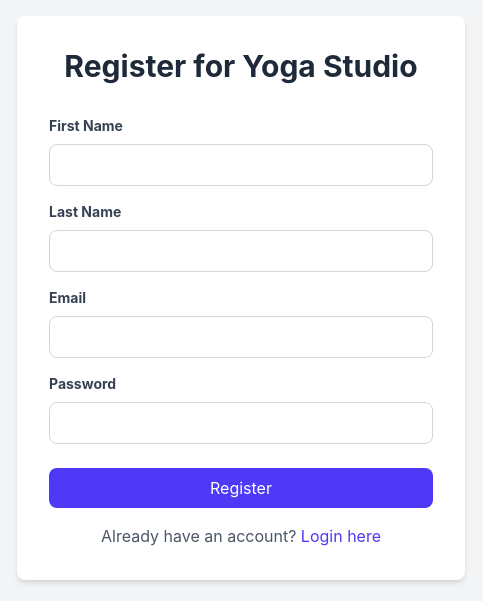
Test: Register › should disable button and show loading state on submit
Type "Benji" into the field labelled "First Name" at (241, 165), box 49,144 -> 433,186
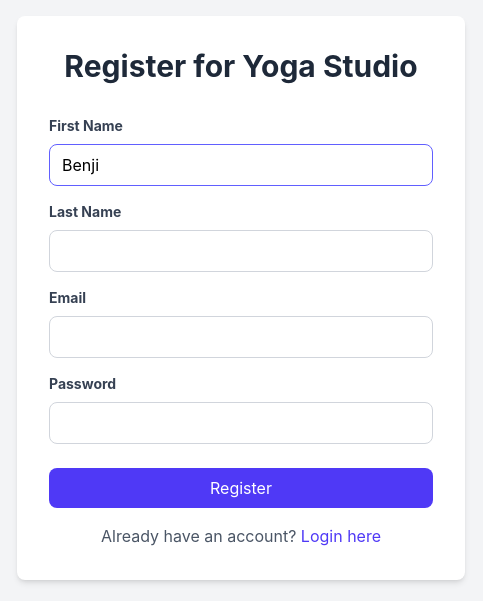
Type "Doe" into the field labelled "Last Name" at (241, 251), box 49,230 -> 433,272
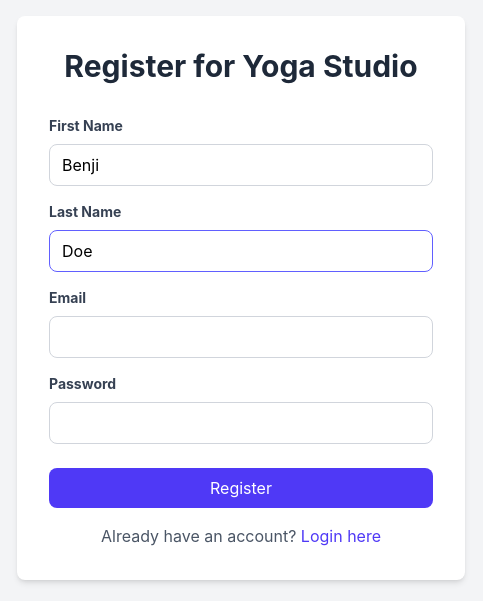
Type "studio@yoga.com" into the field labelled "Email" at (241, 337), box 49,316 -> 433,358
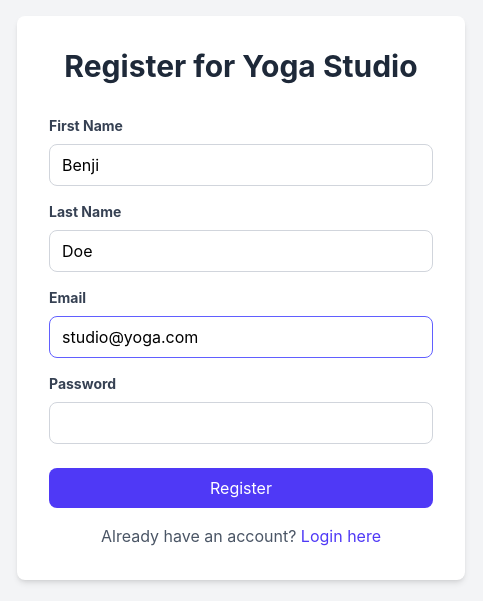
Type "test!1234" into the password field labelled "Password" at (241, 423), box 49,402 -> 433,444
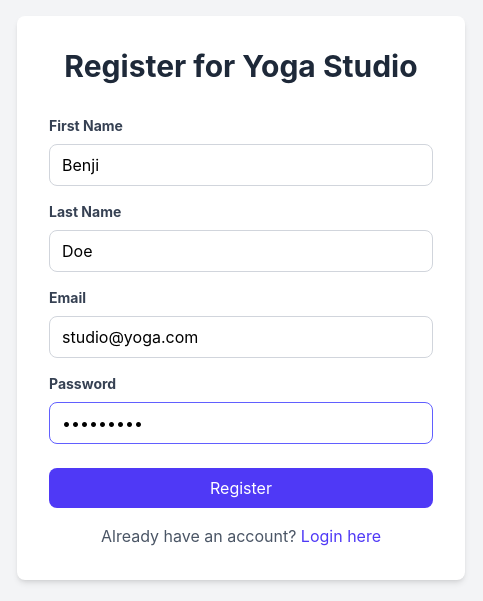
Click the button "Register" at (241, 488), box 49,468 -> 433,508
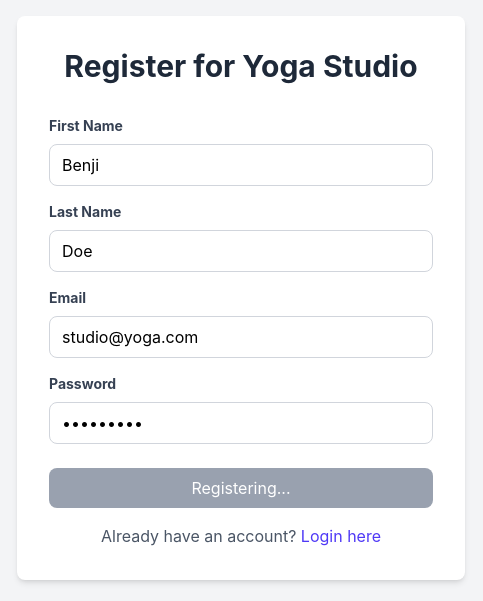
Now the button "Registering..." is disabled, box 49,468 -> 433,508
